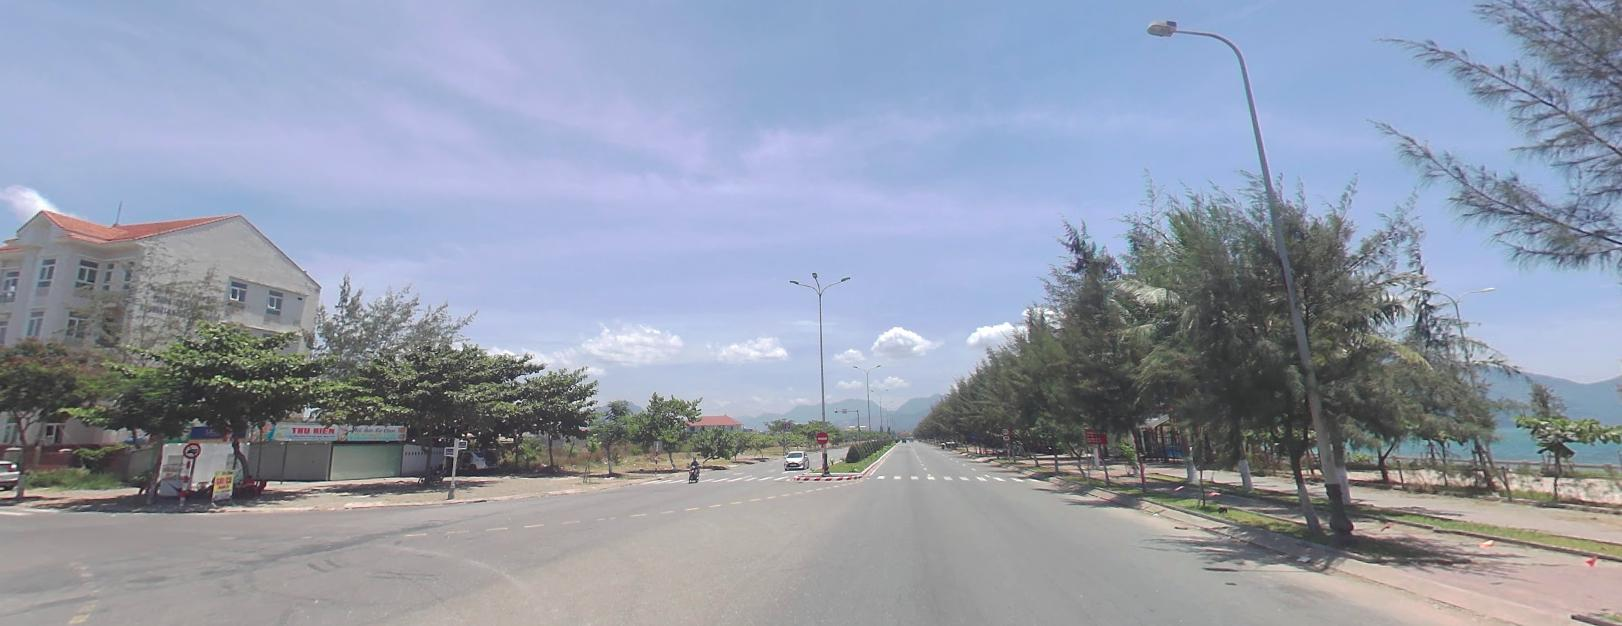Cam con lai: (183, 442, 201, 456)
Cam nguoc chieu: (816, 430, 828, 442), (816, 430, 827, 441)
Gioi han toc do: (1001, 426, 1010, 433)
